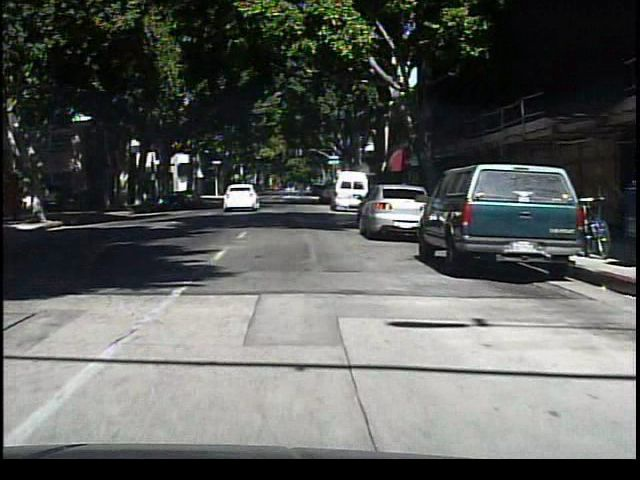person: (38, 180, 56, 223), (293, 177, 311, 206)
